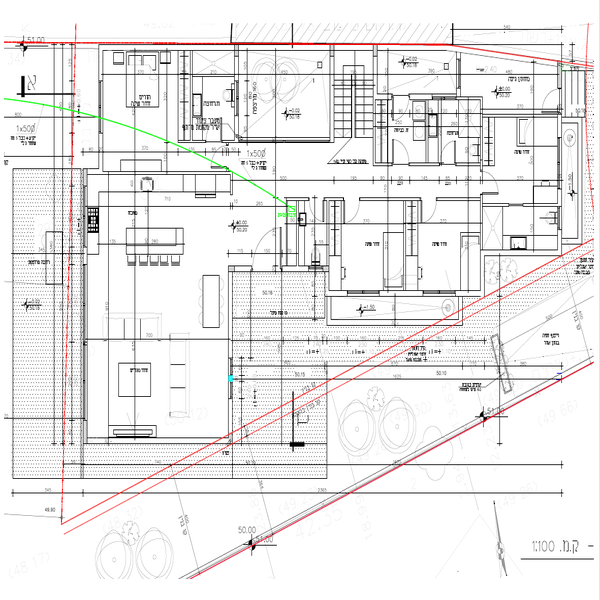door: (254, 227, 286, 276), (413, 194, 443, 232), (544, 84, 573, 119), (477, 170, 506, 201), (389, 138, 417, 170), (337, 195, 365, 227), (439, 136, 464, 166)
